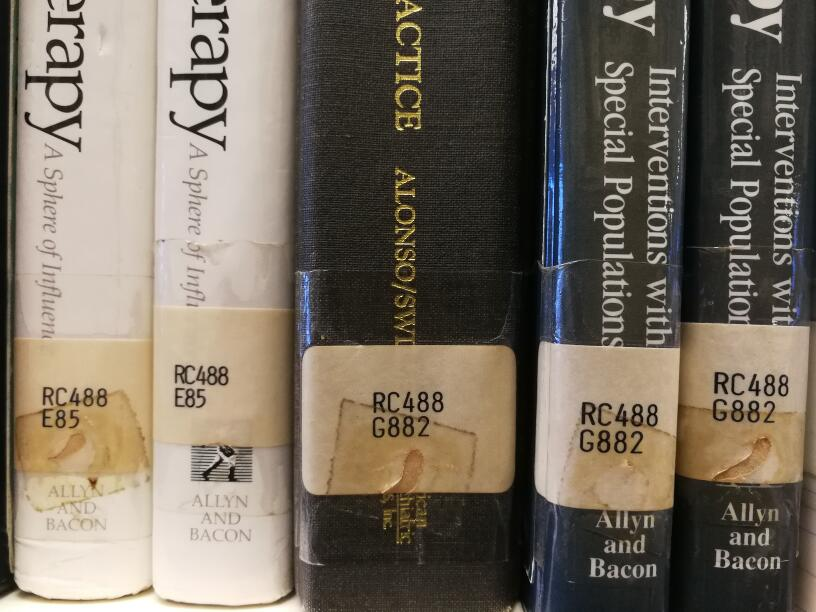booklabel: (578, 400, 660, 454), (709, 370, 790, 423), (371, 388, 445, 438), (41, 385, 107, 429), (172, 363, 230, 408)
